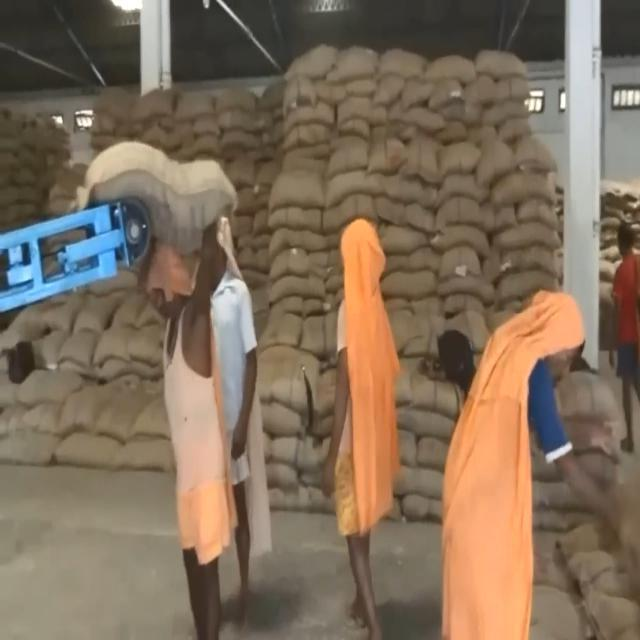gunny_bag: (72, 138, 242, 257)
